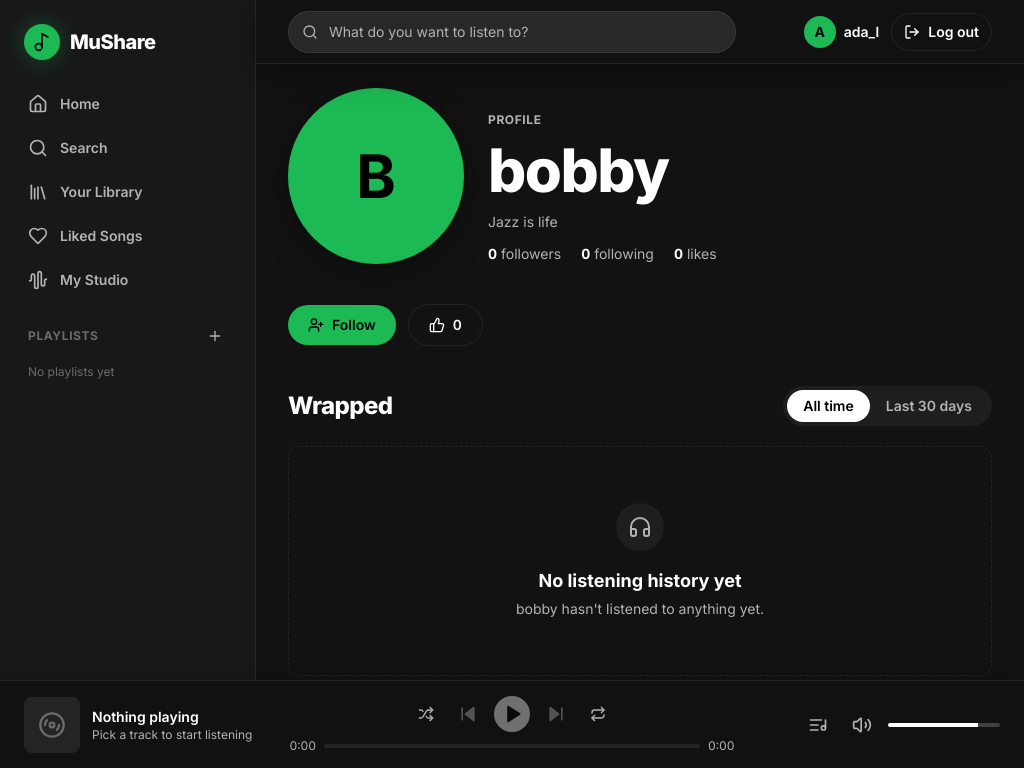
Scenario: profile page › rolls a failed like back
Expected: the heading "bobby" is shown, x1=488 y1=134 x2=668 y2=206
Click the button "0": (445,325) x1=408 y1=304 x2=483 y2=346
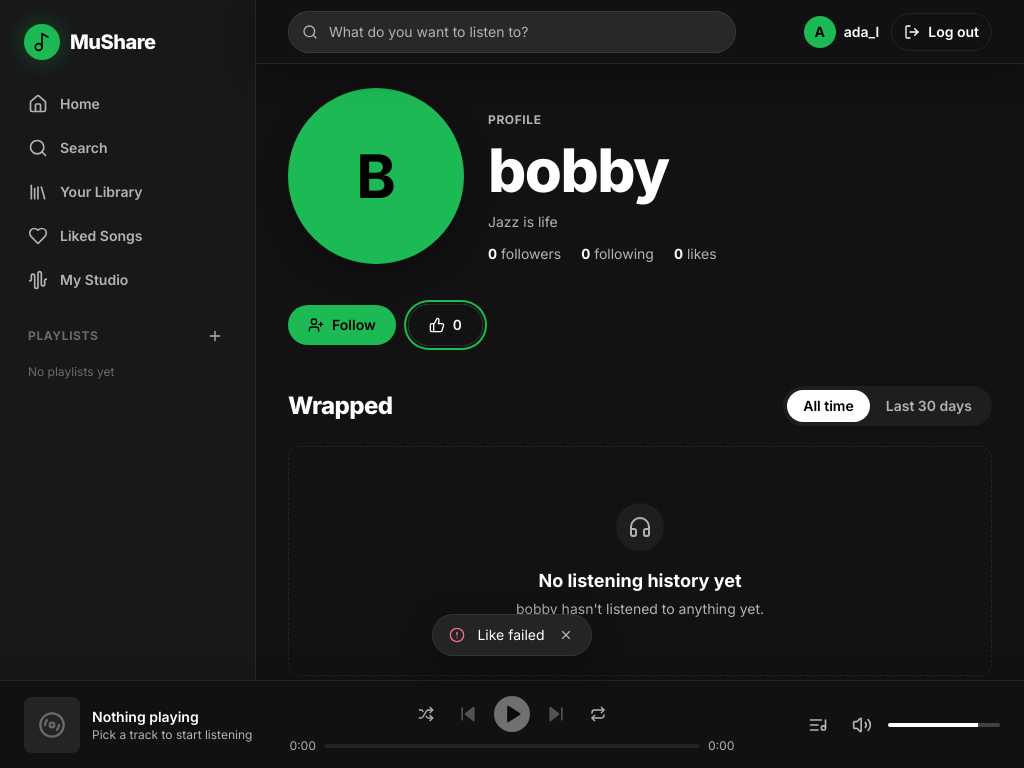
Expected: the text "Like failed" is shown, x1=477 y1=625 x2=544 y2=645
